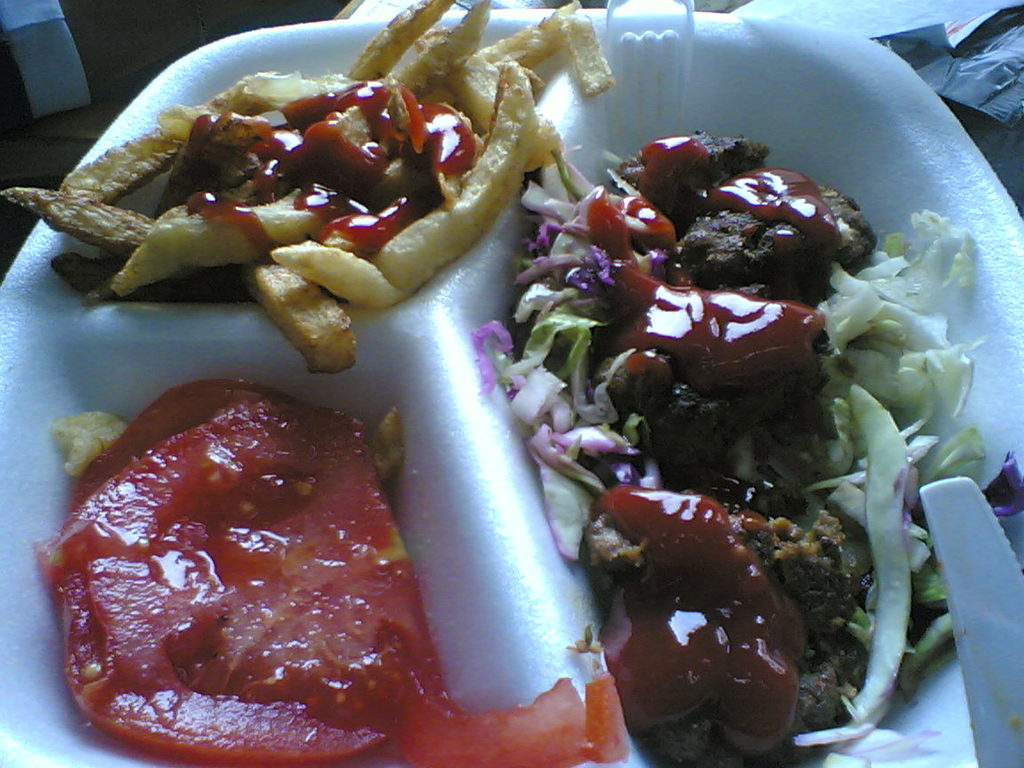salad: (0, 0, 994, 767)
